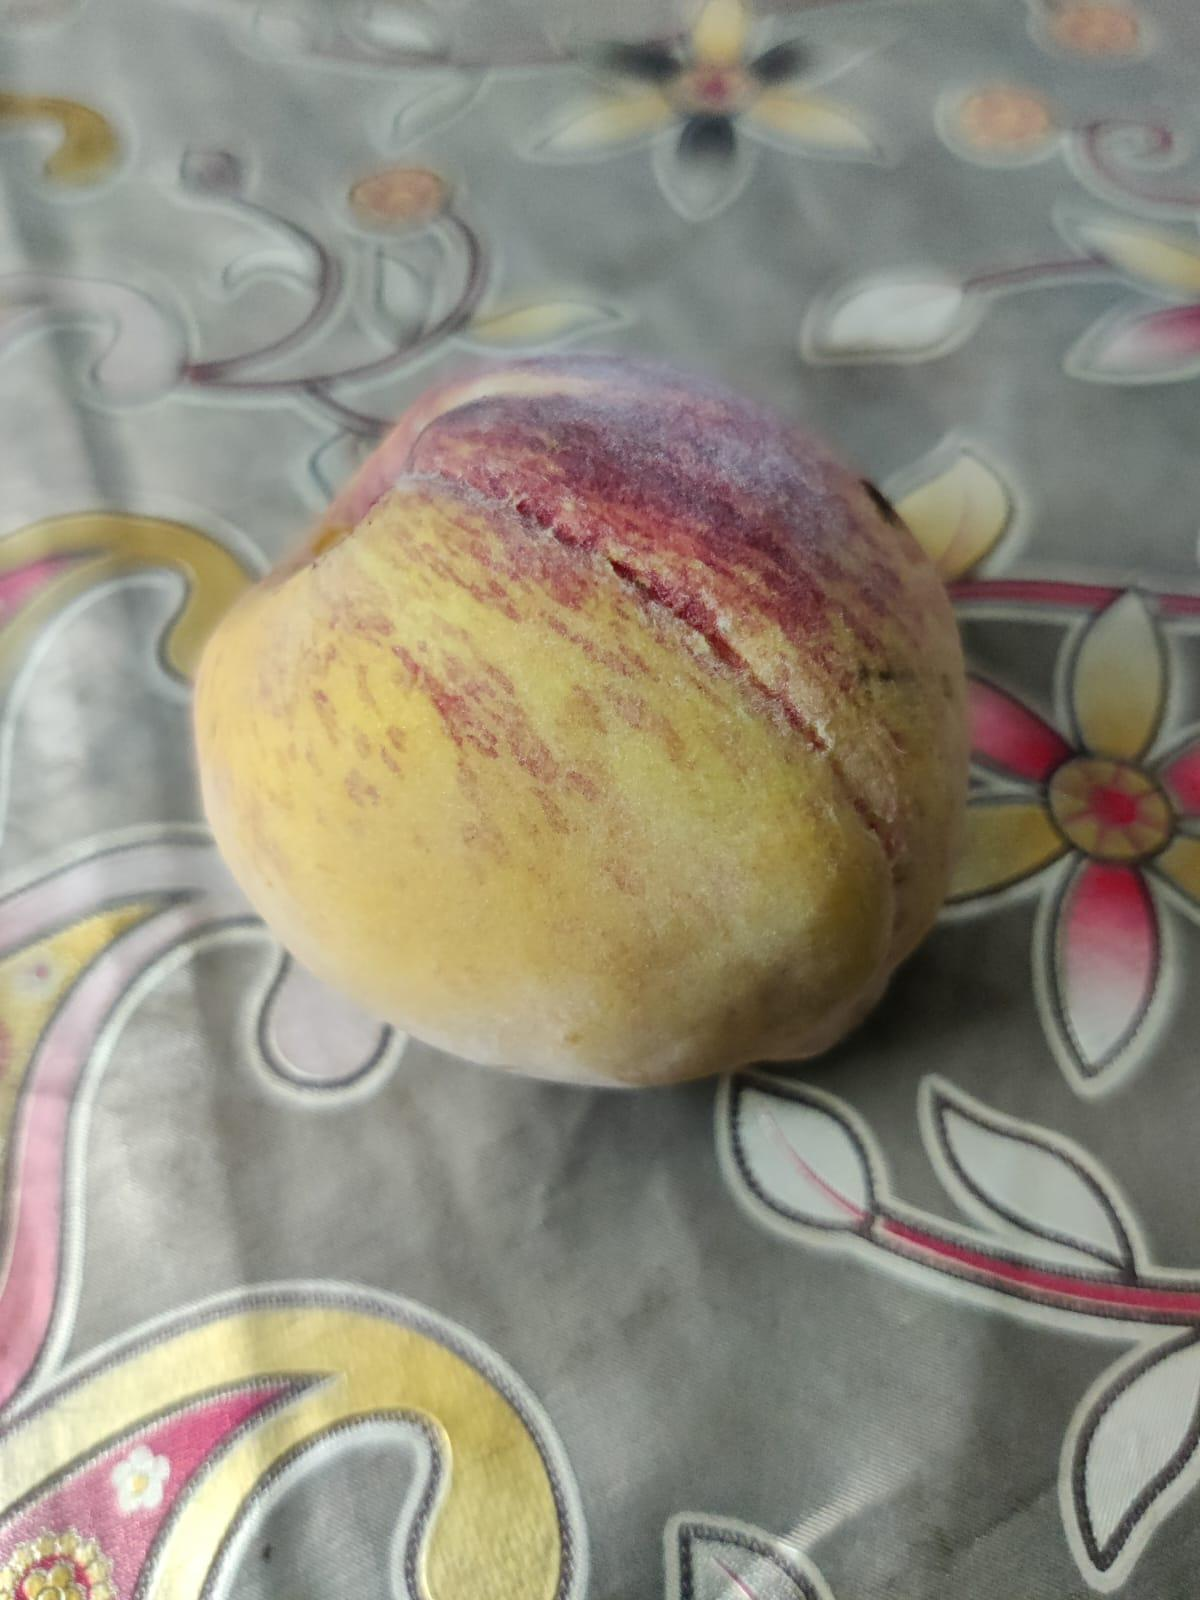non-mango: (195, 367, 983, 1087)
